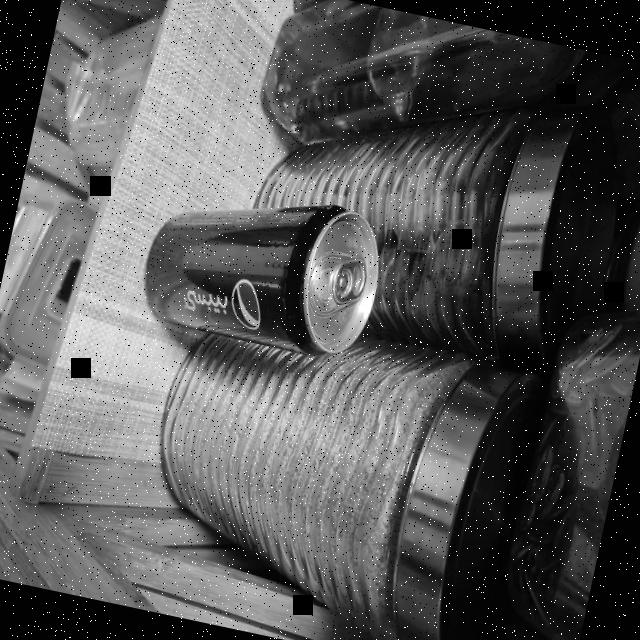can: (133, 165, 390, 376)
